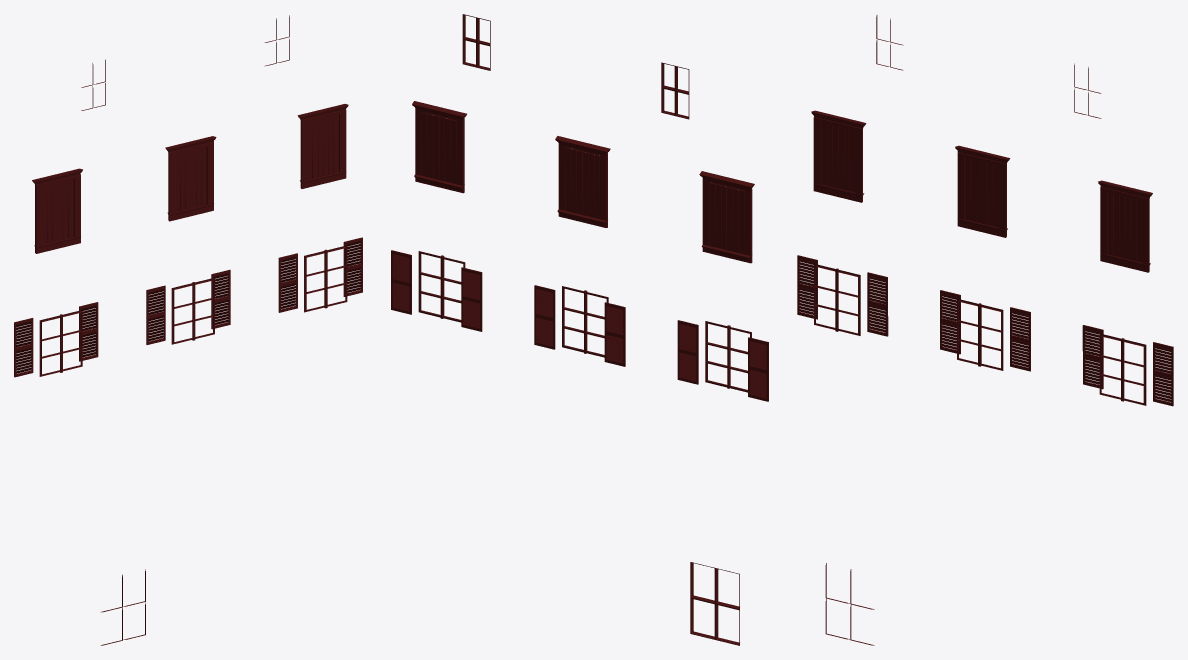
Rendered from FairyTale221.gltf.
3 renders of one model, left to right at view 1: azimuth 30°, elevation 25°; view 2: azimuth 150°, elevation 25°; view 3: azimuth 330°, elevation 25°, orthographic. The views are drawn at different scales.
Parts seen in each view (by area): view 1: HouseMD04_WoodDark001; view 2: HouseMD04_WoodDark001; view 3: HouseMD04_WoodDark001.
Boxes of the visible parts, left/top/right/bottom form: HouseMD04_WoodDark001: left=14, top=15, right=362, bottom=645; HouseMD04_WoodDark001: left=391, top=14, right=768, bottom=645; HouseMD04_WoodDark001: left=797, top=15, right=1173, bottom=645.
Size of the model in its own units: 7.02 by 10.66 by 1.22.
